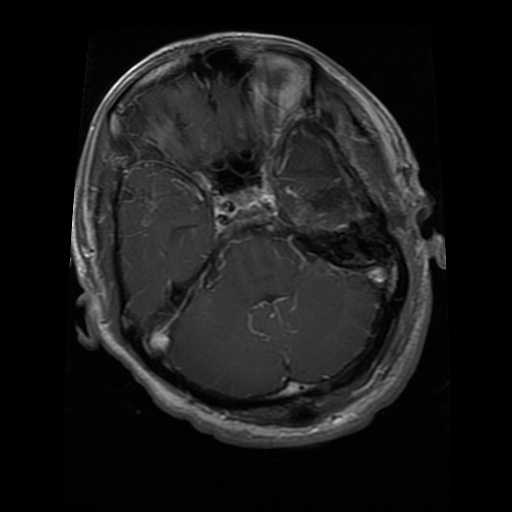glioma: (284, 173, 365, 232)
